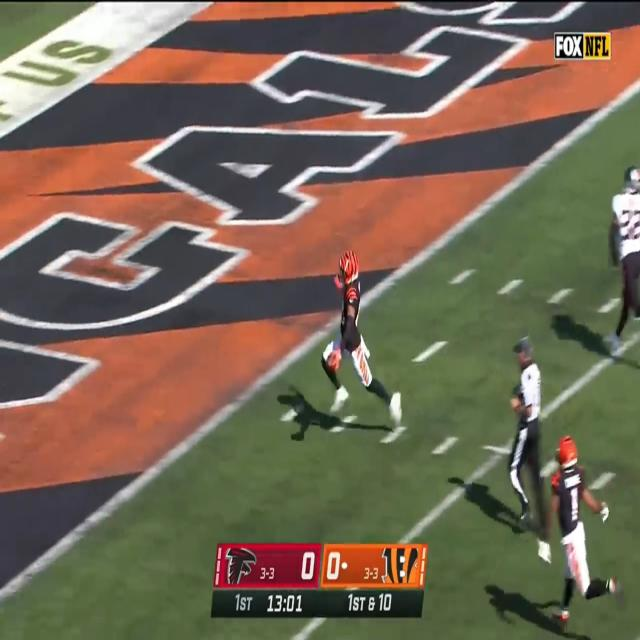Ball: (323, 347, 341, 377)
